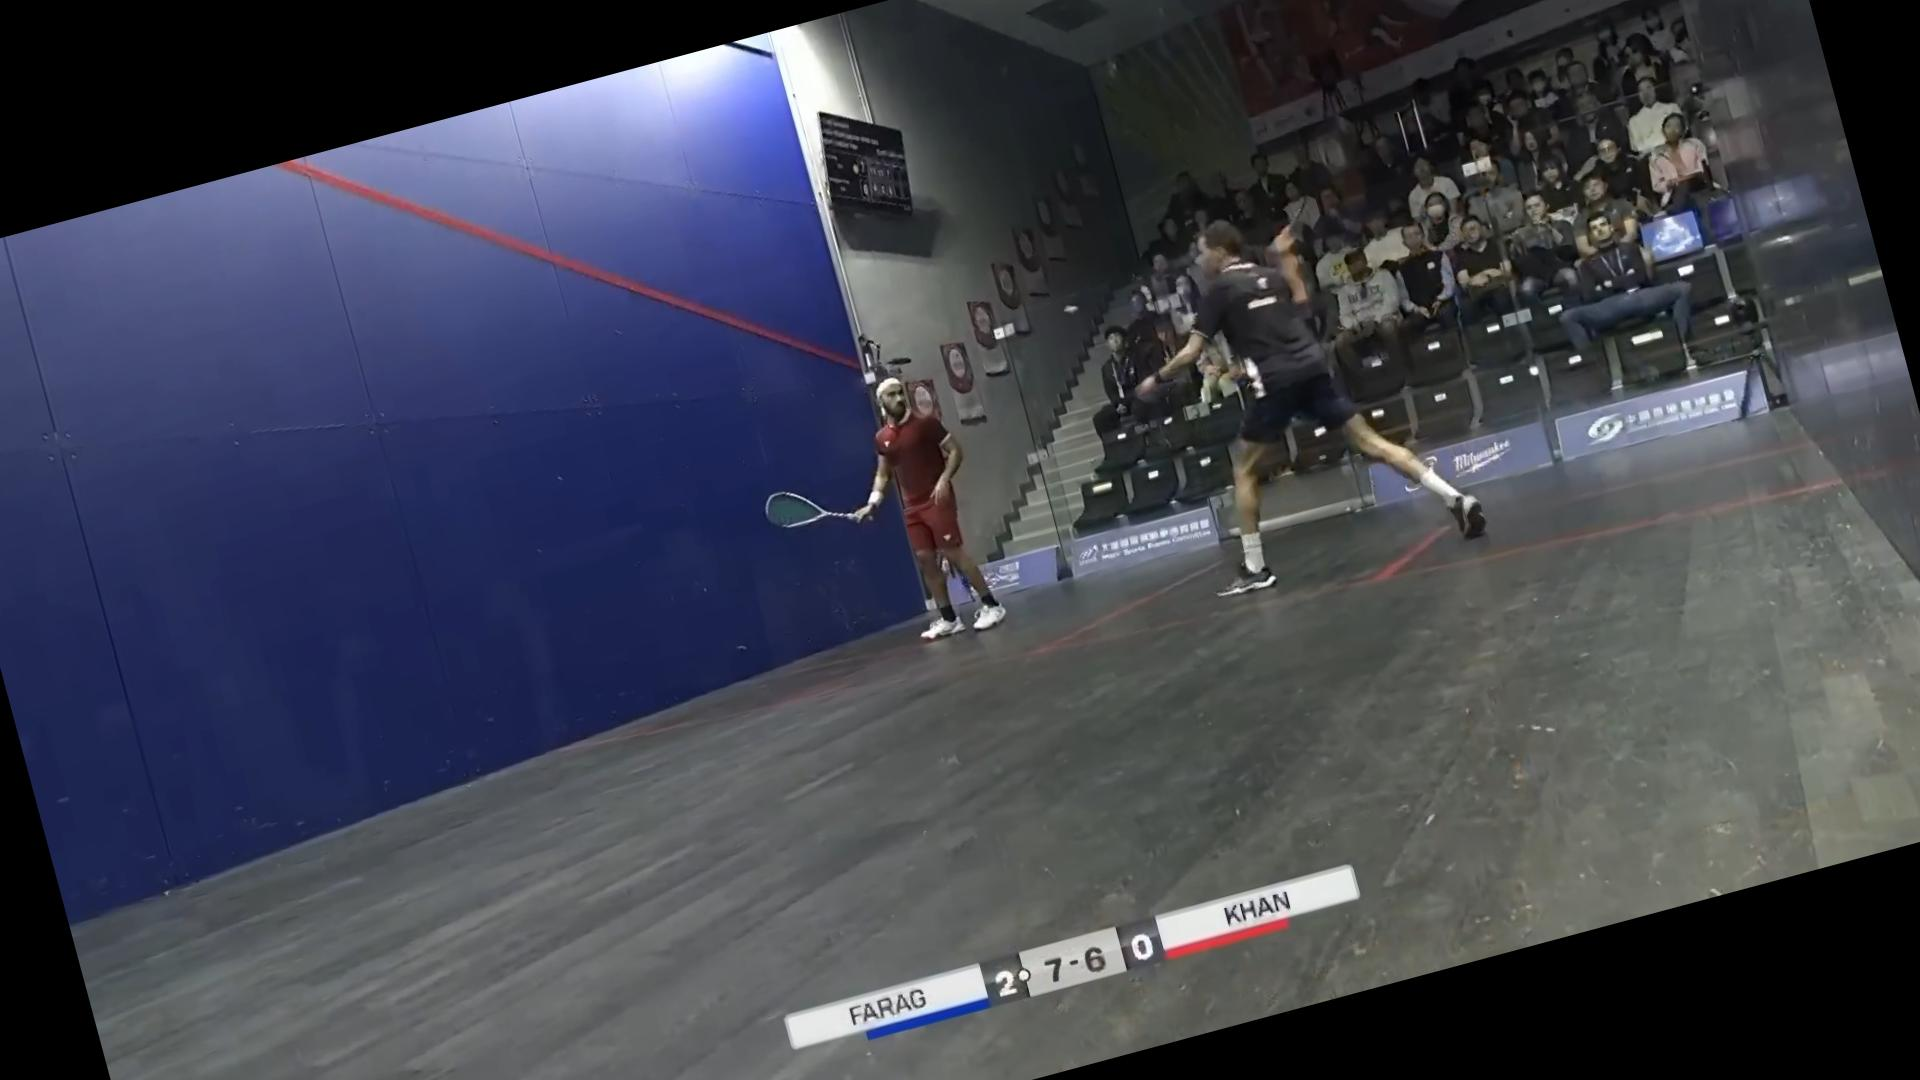Racket: (761, 467, 872, 551)
